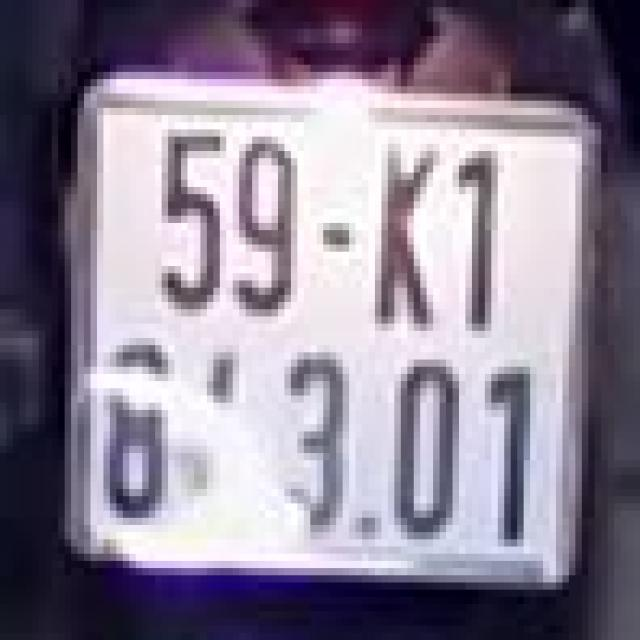0: (388, 349, 465, 550)
1: (469, 349, 546, 557), (456, 140, 520, 349)
3: (268, 331, 366, 539)
4: (194, 331, 265, 532)
5: (149, 122, 226, 316)
8: (94, 327, 178, 514)
9: (230, 122, 300, 316)
K: (356, 126, 446, 341)
